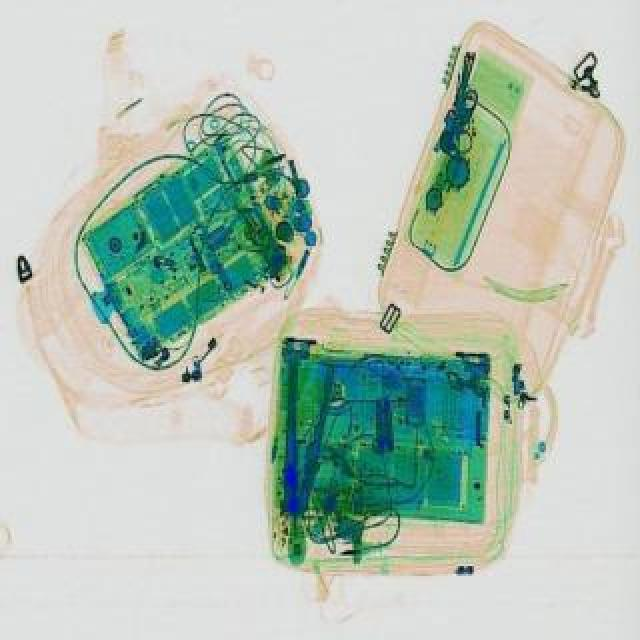wrench: (272, 364, 336, 520)
